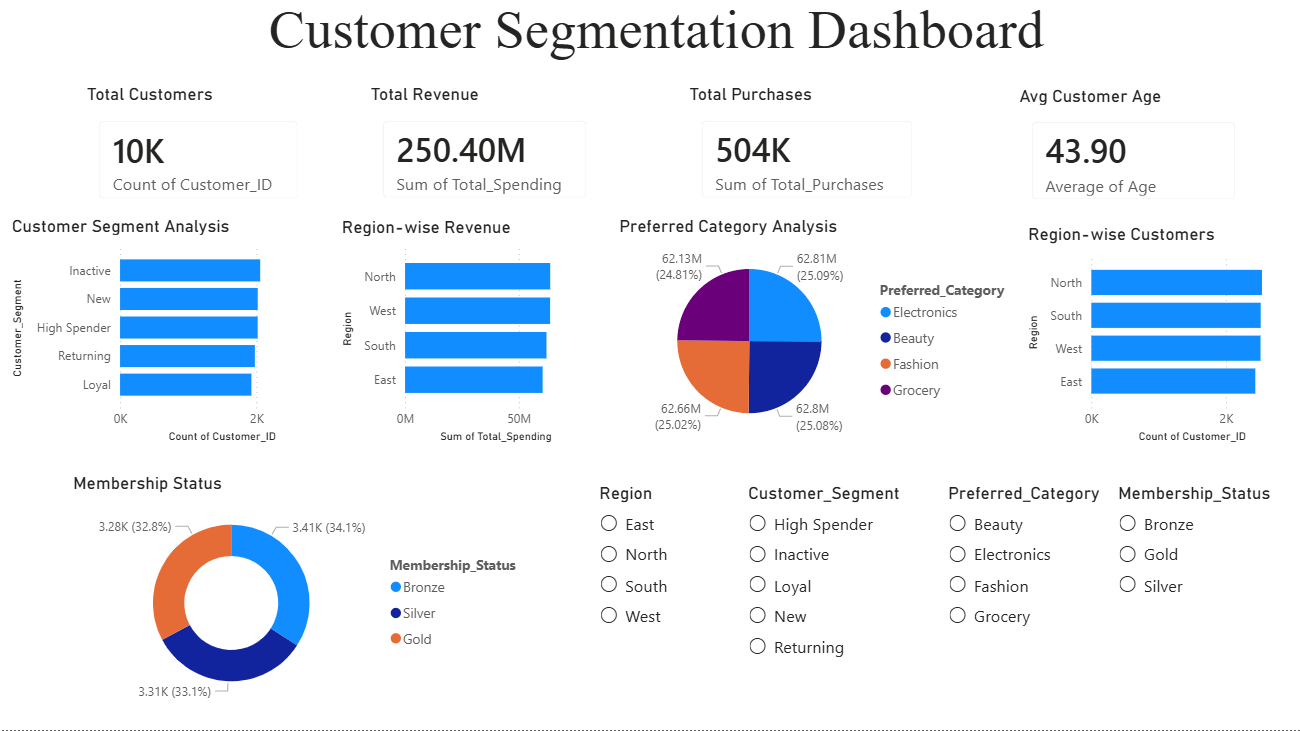

Layout of this report page (visuals, bound fields, positions):
{"tool":"powerbi","page":{"name":"Page 1","canvas":[1280,720],"ordinal":0},"visuals":[{"type":"textbox","box":[9.8,0,1270.5,72.1],"z":0},{"type":"cardVisual","title":"Total Customers","fields":{"Data":["CountNonNull(Sheet1.Customer_ID)"]},"box":[83.2,88,228.7,129.6],"z":1000},{"type":"cardVisual","title":"Total Revenue","fields":{"Data":["Sum(Sheet1.Total_Spending)"]},"box":[360.7,88,233.6,128.4],"z":2000},{"type":"cardVisual","title":"Total Purchases","fields":{"Data":["Sum(Sheet1.Total_Purchases)"]},"box":[672.6,88,240.9,128.4],"z":3000},{"type":"cardVisual","title":"Avg Customer Age","fields":{"Data":["Avg(Sheet1.Age)"]},"box":[995.4,89.3,233.6,128.4],"z":4000},{"type":"clusteredBarChart","title":"Customer Segment Analysis","fields":{"Y":["CountNonNull(Sheet1.Customer_ID)"],"Category":["Sheet1.Customer_Segment"]},"box":[9.8,216.4,322.8,227.4],"z":5000},{"type":"clusteredBarChart","title":"Region-wise Revenue","fields":{"Y":["Sum(Sheet1.Total_Spending)"],"Category":["Sheet1.Region"]},"box":[332.6,217.7,261.7,226.2],"z":6000},{"type":"pieChart","title":"Preferred Category Analysis","fields":{"Y":["Sum(Sheet1.Total_Spending)"],"Category":["Sheet1.Preferred_Category"]},"box":[604.1,216.4,391.3,227.4],"z":7000},{"type":"donutChart","title":"Membership Status","fields":{"Y":["CountNonNull(Sheet1.Customer_ID)"],"Category":["Sheet1.Membership_Status"]},"box":[69.7,468.3,457.3,236],"z":9000},{"type":"clusteredBarChart","title":"Region-wise Customers","fields":{"Y":["CountNonNull(Sheet1.Customer_ID)"],"Category":["Sheet1.Region"]},"box":[1003.9,225,276.4,218.9],"z":9001},{"type":"listSlicer","fields":{"Values":["Sheet1.Region"]},"box":[584.5,478.1,145.5,190.8],"z":9002},{"type":"listSlicer","fields":{"Values":["Sheet1.Customer_Segment"]},"box":[730,478.1,183.4,190.8],"z":9003},{"type":"listSlicer","fields":{"Values":["Sheet1.Preferred_Category"]},"box":[925.7,478.1,166.3,190.8],"z":9004},{"type":"listSlicer","fields":{"Values":["Sheet1.Membership_Status"]},"box":[1092,478.1,166.3,190.8],"z":9005}]}

Visuals, with their boxes in screenshot pixels (x1, y1, x2, y2), scaled from the page's 1280x720 canvas onto the 1300x731 screenshot:
textbox: bbox=(10, 0, 1299, 73)
"Total Customers" cardVisual: bbox=(84, 89, 317, 221)
"Total Revenue" cardVisual: bbox=(366, 89, 604, 220)
"Total Purchases" cardVisual: bbox=(683, 89, 928, 220)
"Avg Customer Age" cardVisual: bbox=(1011, 91, 1248, 221)
"Customer Segment Analysis" clusteredBarChart: bbox=(10, 220, 338, 451)
"Region-wise Revenue" clusteredBarChart: bbox=(338, 221, 604, 451)
"Preferred Category Analysis" pieChart: bbox=(614, 220, 1011, 451)
"Membership Status" donutChart: bbox=(71, 475, 535, 715)
"Region-wise Customers" clusteredBarChart: bbox=(1020, 228, 1299, 451)
listSlicer - Sheet1.Region: bbox=(594, 485, 741, 679)
listSlicer - Sheet1.Customer_Segment: bbox=(741, 485, 928, 679)
listSlicer - Sheet1.Preferred_Category: bbox=(940, 485, 1109, 679)
listSlicer - Sheet1.Membership_Status: bbox=(1109, 485, 1278, 679)
